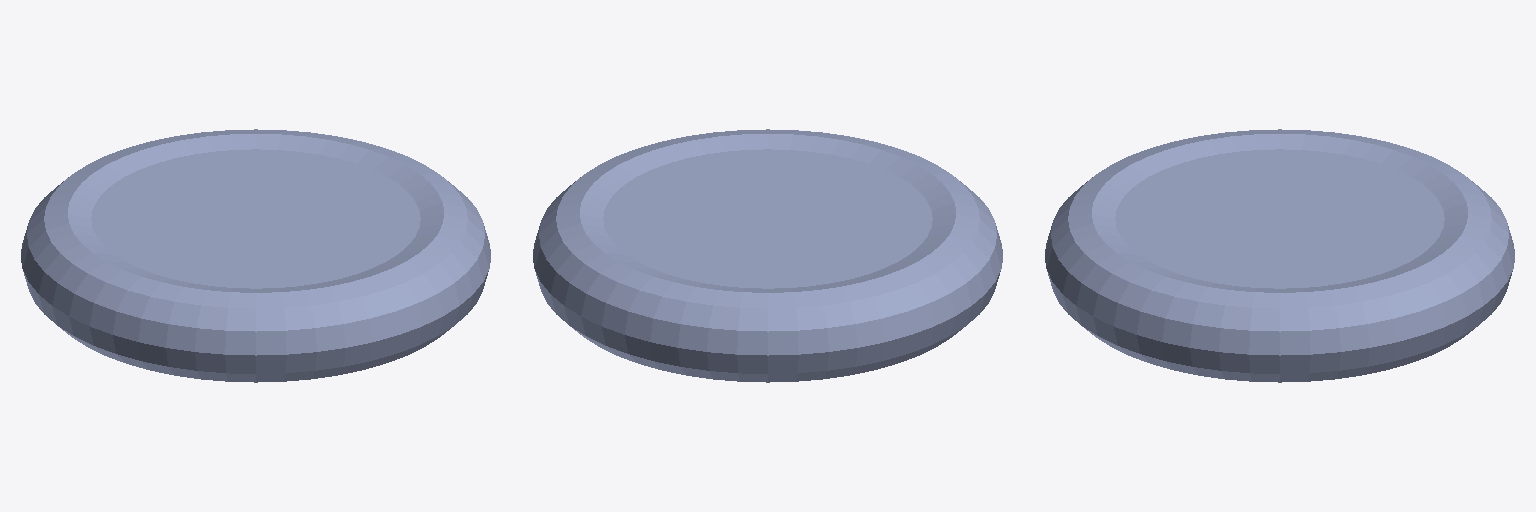
File: wheel.obj
The picture shows the model from 3 angles: view 1: azimuth 30°, elevation 25°; view 2: azimuth 150°, elevation 25°; view 3: azimuth 270°, elevation 25°; orthographic projection.
Parts seen in each view (by area): view 1: Torus; view 2: Torus; view 3: Torus.
Part boxes in pixels (left/top/right/bottom): Torus: left=21, top=129, right=490, bottom=382; Torus: left=533, top=129, right=1002, bottom=382; Torus: left=1045, top=129, right=1514, bottom=382.
Size of the model in its own units: 0.2428 by 0.0486 by 0.2428.